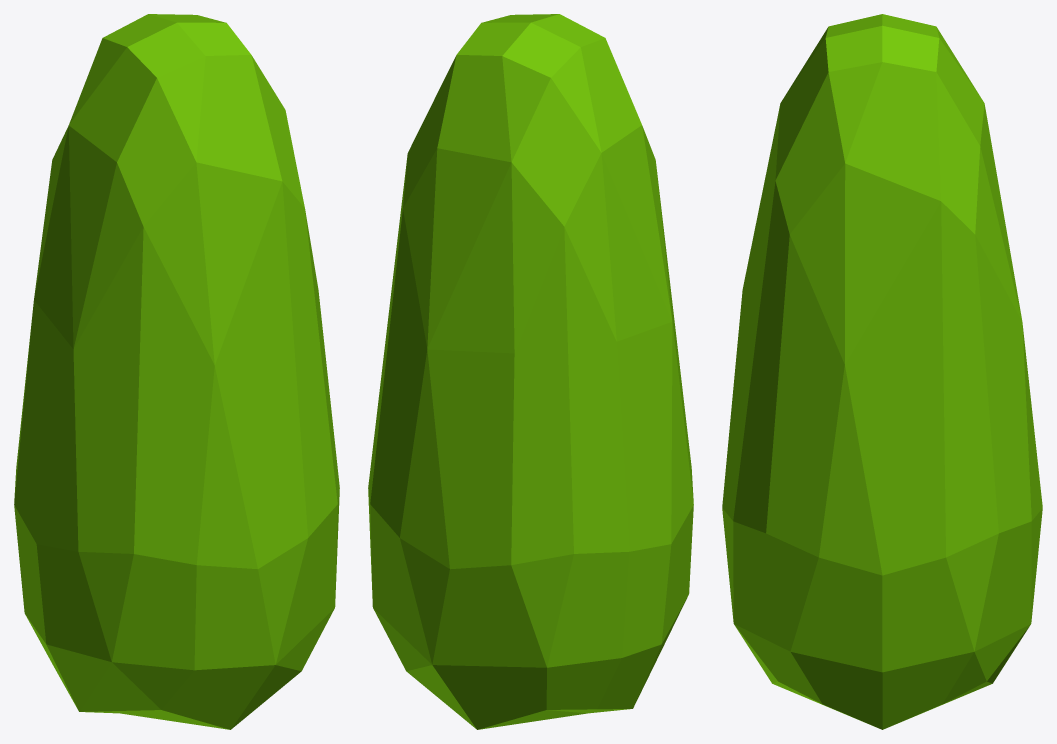
The model's file is Bush_06.fbx.
3 views of the same model, side by side, from view 1: azimuth 30°, elevation 25°; view 2: azimuth 150°, elevation 25°; view 3: azimuth 270°, elevation 25° (orthographic).
Visible parts, largest first — view 1: Bush_06; view 2: Bush_06; view 3: Bush_06.
Part boxes in pixels (x1,y1,x2,y2): Bush_06: (14,14,339,729); Bush_06: (368,14,693,729); Bush_06: (722,14,1042,729).
Size of the model in its own units: 92.33 by 215 by 92.33.
